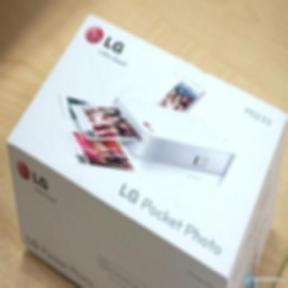box: (8, 22, 284, 288)
